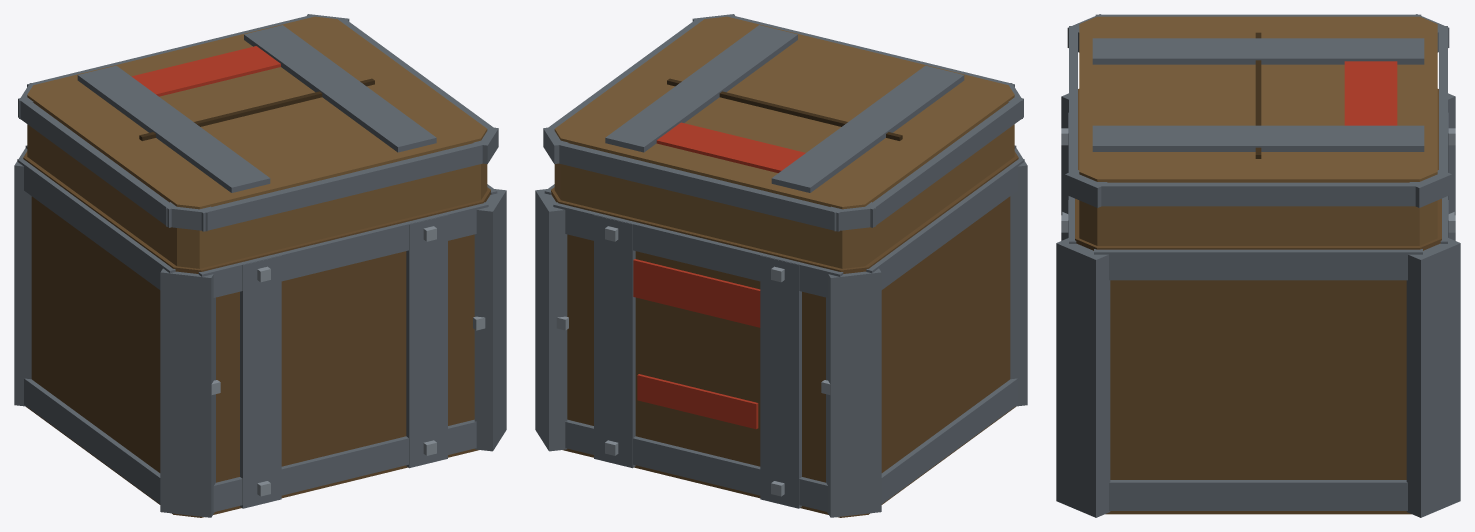
Rendered from mdl_loot_box_military_v1.glb.
3 renders of one model, left to right at view 1: azimuth 30°, elevation 25°; view 2: azimuth 150°, elevation 25°; view 3: azimuth 270°, elevation 25°, orthographic. The views are drawn at different scales.
Visible parts, largest first — view 1: GEO_Chest_Body, GEO_Chest_Iron, GEO_Chest_Paint; view 2: GEO_Chest_Body, GEO_Chest_Iron, GEO_Chest_Paint; view 3: GEO_Chest_Body, GEO_Chest_Iron, GEO_Chest_Paint.
Part boxes in pixels (box(x1,y1,x2,y2)): GEO_Chest_Body: box(23, 16, 490, 517); GEO_Chest_Iron: box(14, 14, 506, 517); GEO_Chest_Paint: box(131, 46, 280, 96); GEO_Chest_Body: box(551, 16, 1018, 517); GEO_Chest_Iron: box(535, 14, 1027, 517); GEO_Chest_Paint: box(633, 122, 805, 429); GEO_Chest_Body: box(1075, 16, 1441, 514); GEO_Chest_Iron: box(1056, 14, 1460, 517); GEO_Chest_Paint: box(1344, 61, 1397, 125).
Bounding box in the file's own units: 0.9302 × 0.814 × 0.8815.
